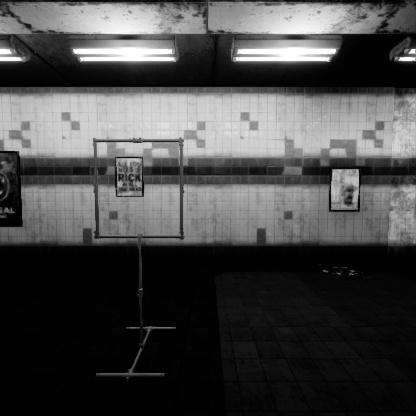gate: (93, 176, 192, 277)
